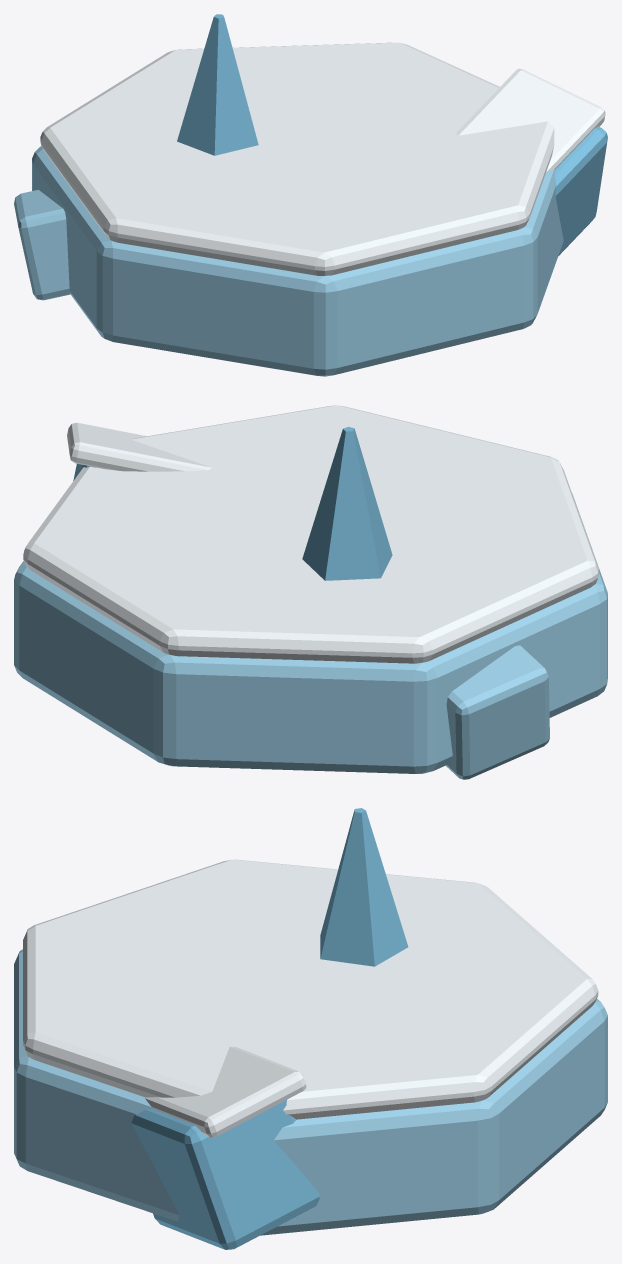
File: ice_floe.glb
The picture shows the model from 3 angles, top to bottom: view 1: azimuth 30°, elevation 25°; view 2: azimuth 150°, elevation 25°; view 3: azimuth 270°, elevation 25°; orthographic projection. The views are drawn at different scales.
Parts seen in each view (by area): view 1: cap, slab, spike, block1cap, block2, block1; view 2: cap, slab, block2, spike, block1cap; view 3: cap, slab, block1, spike, block1cap.
Boxes of the visible parts, x1,y1,x2,y2 form: cap: (40, 42, 554, 275); slab: (32, 146, 563, 376); spike: (177, 14, 258, 155); block1cap: (456, 68, 605, 172); block2: (14, 189, 70, 300); block1: (555, 126, 607, 255); cap: (23, 405, 598, 663); slab: (14, 493, 607, 773); block2: (445, 645, 549, 779); spike: (302, 426, 392, 580); block1cap: (67, 422, 212, 471); cap: (23, 859, 598, 1119); slab: (14, 949, 607, 1235); block1: (131, 1099, 319, 1249); spike: (320, 808, 408, 966); block1cap: (145, 1046, 306, 1137).
Bounding box in the file's own units: 5.27 × 2.58 × 4.73.
